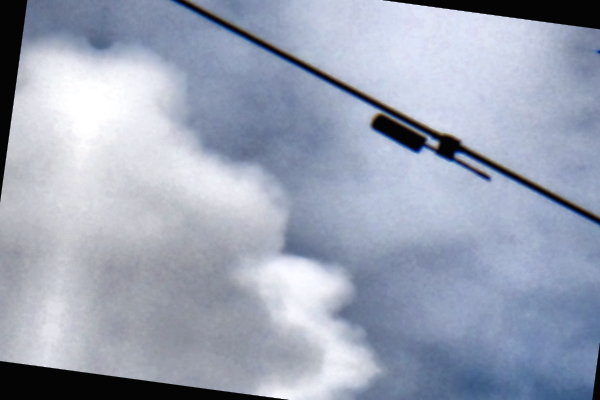damper_defect: (364, 109, 494, 182)
